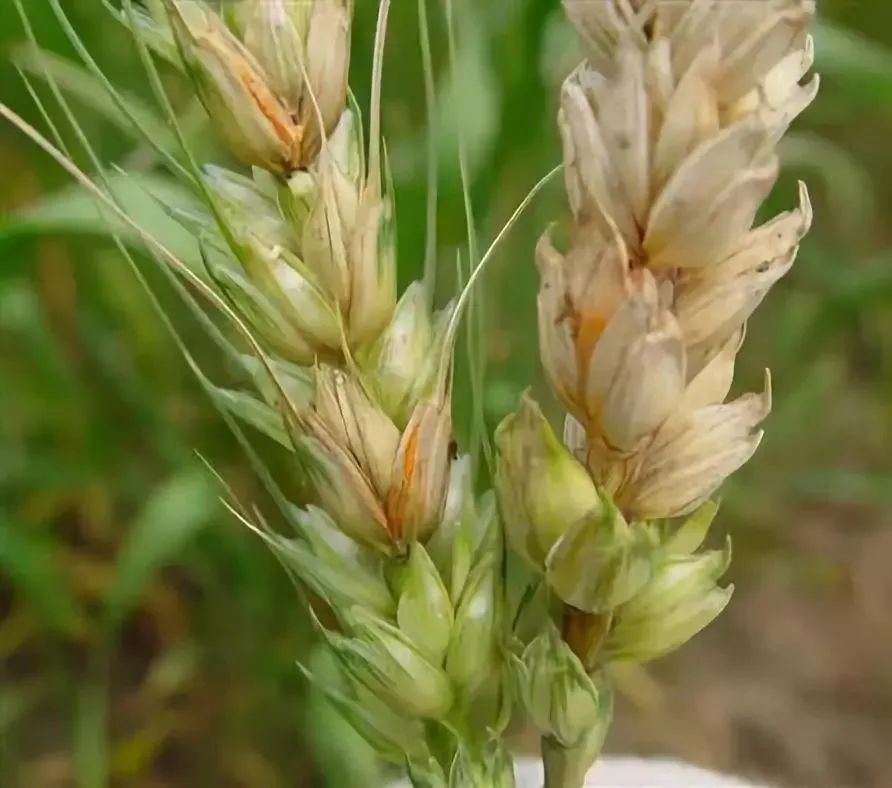Wheat scab: (142, 19, 502, 744), (522, 1, 837, 752)
